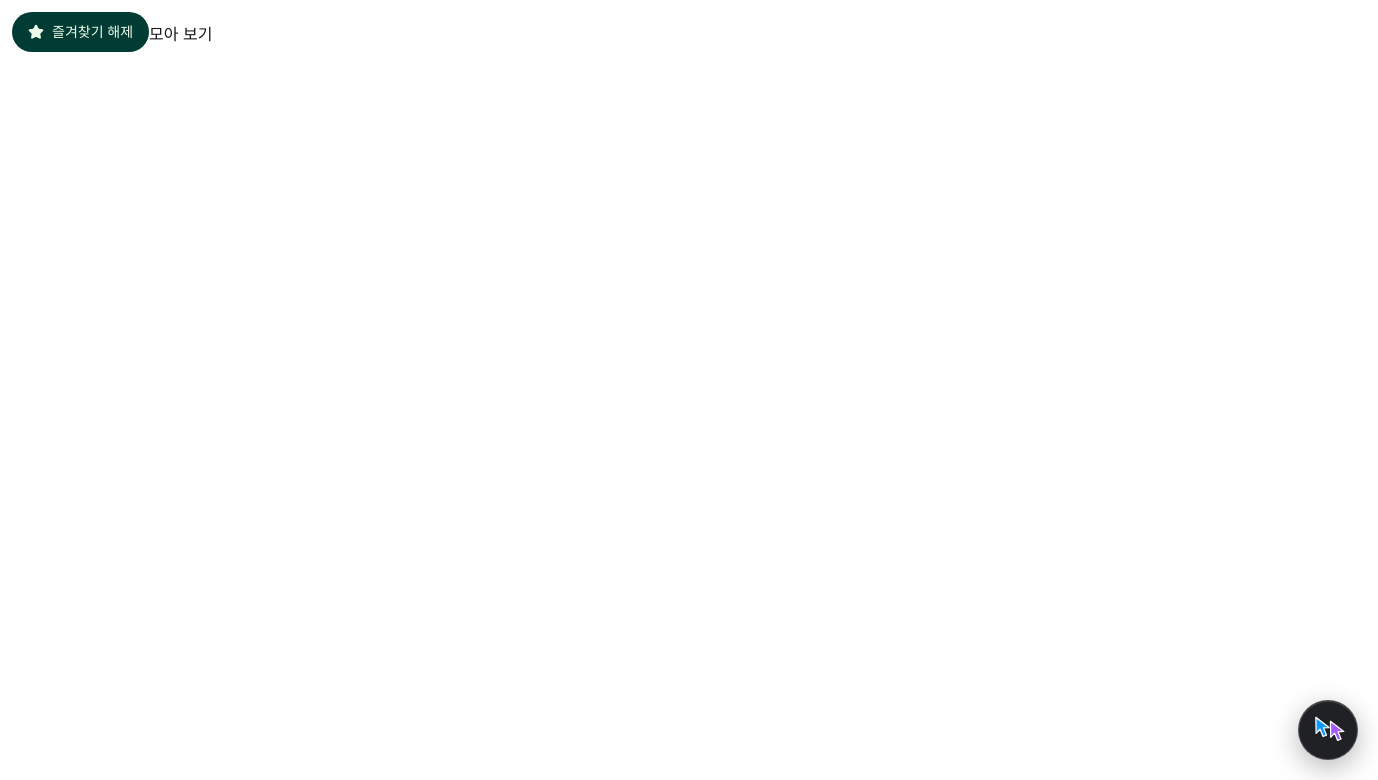
retains existing account likes as favorites and persists changes to the account
The width and height of the screenshot is (1378, 780).
Click the button with aria-label "사고외주 즐겨찾기 해제": (80, 32) [12, 12, 149, 52]
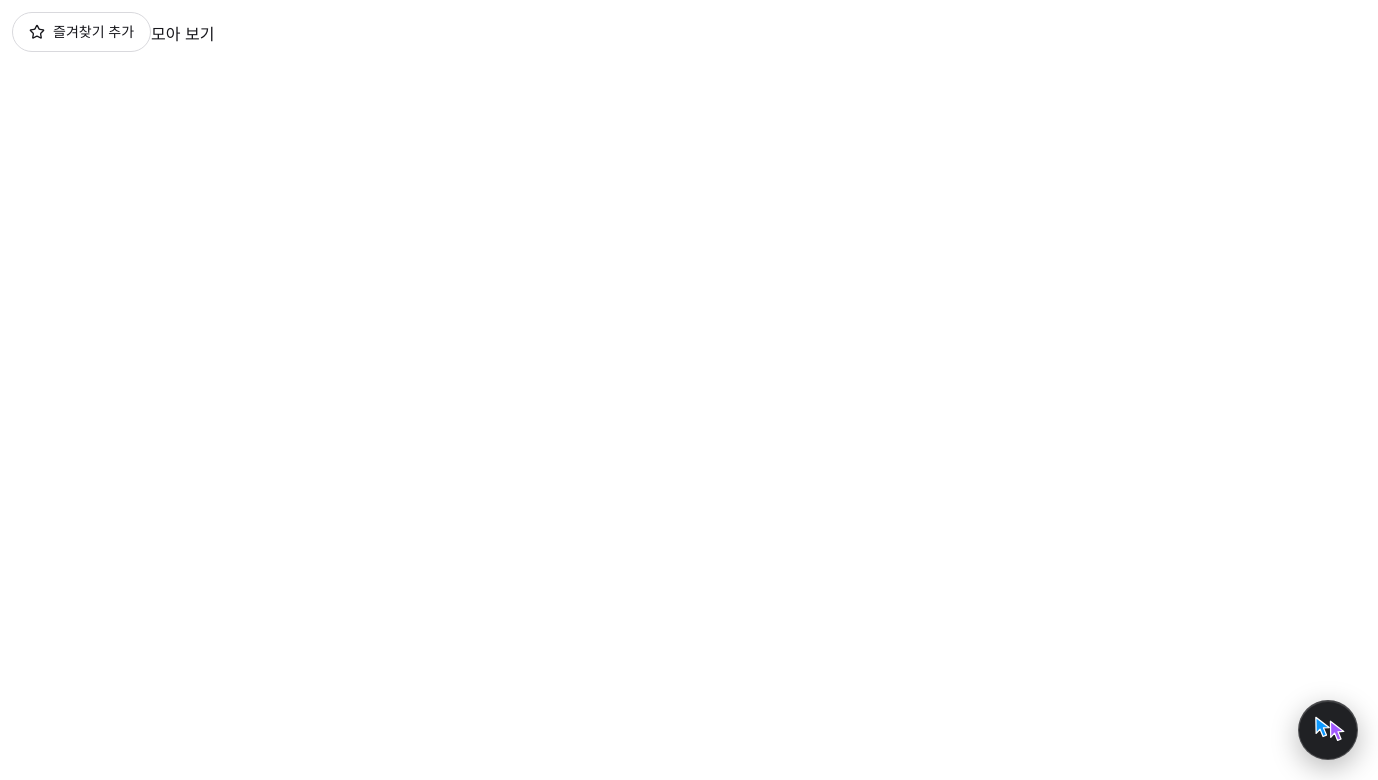
Check: the button with aria-label "사고외주 즐겨찾기 추가" is shown, box [12, 12, 151, 52]
